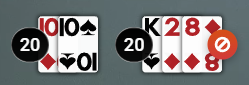10: (57, 14, 81, 39), (37, 15, 59, 39)
2: (161, 15, 182, 39)
8: (181, 15, 202, 39)
k: (141, 15, 162, 39)
